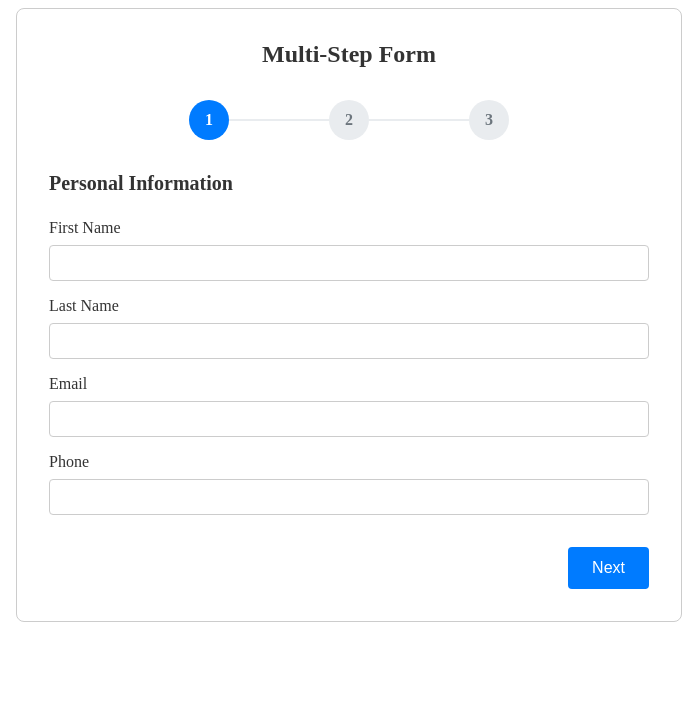
Test: MultiStepForm Component › Step 1 - Personal Information › should show validation error when first name is empty
Step 1. Click the button with test id "form-next" → (609, 568), box [568,547,649,589]
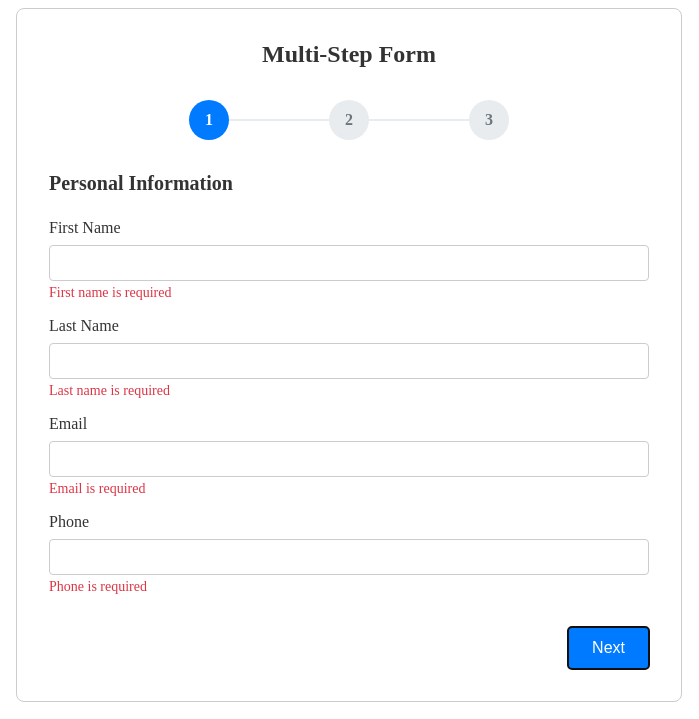
Check: the text with test id "error-firstName" reads "First name is required", box [49,285,172,300]
